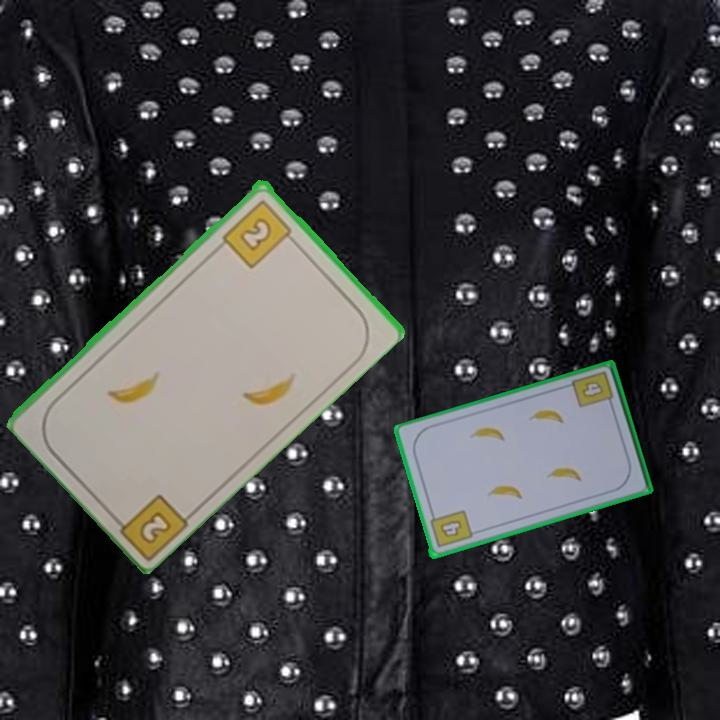2b: (218, 195, 299, 271), (106, 489, 192, 560)
4b: (426, 507, 475, 551), (578, 378, 607, 401)
